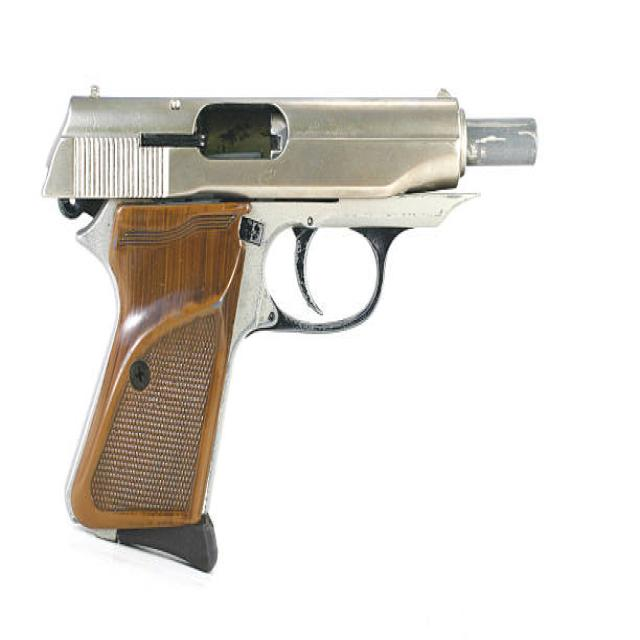pistol: (33, 80, 543, 593)
